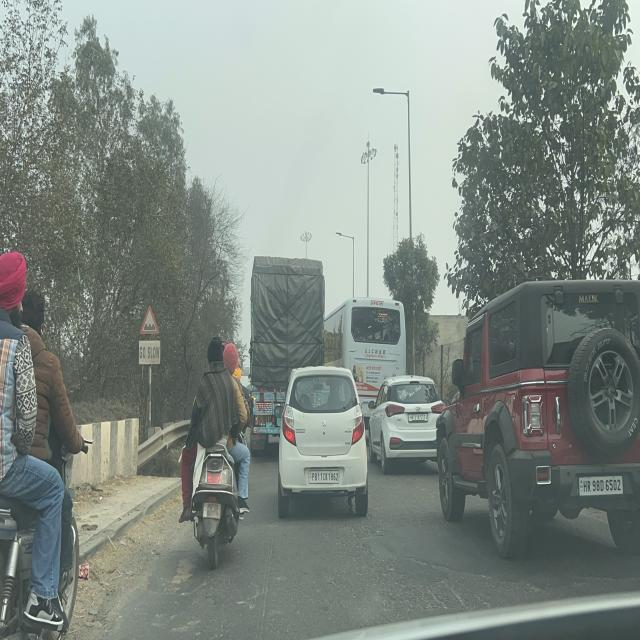HUMP_OR_ROUGH_ROAD: (139, 306, 160, 334)
